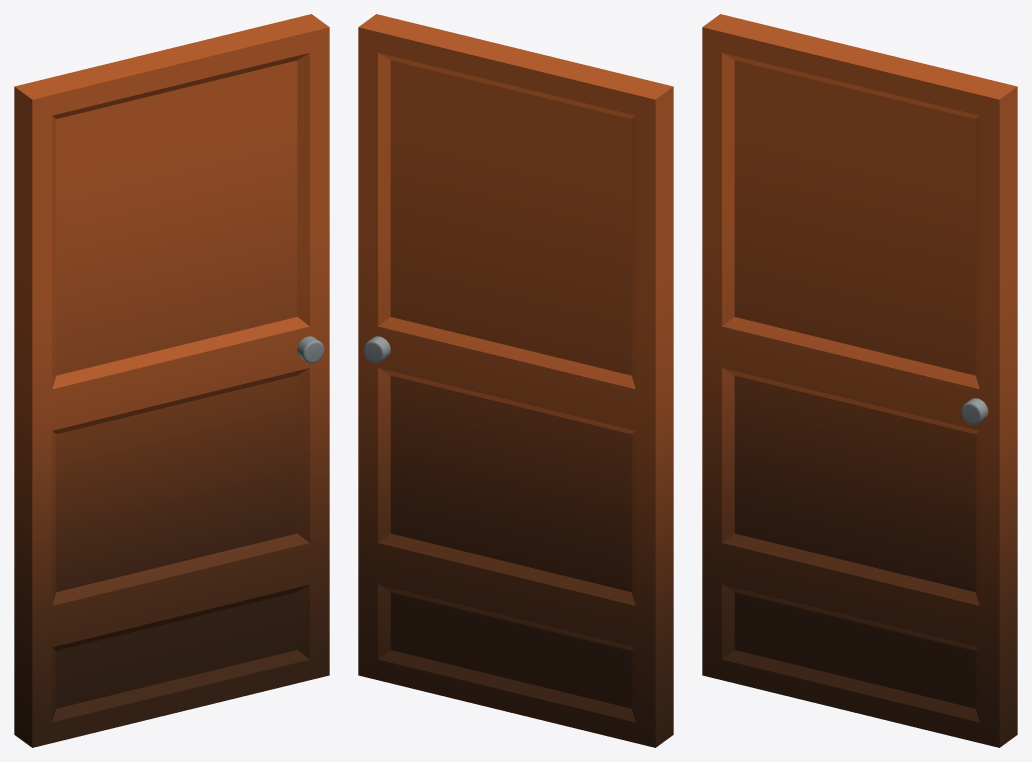
File: Door.gltf
3 renders of one model, left to right at view 1: azimuth 30°, elevation 25°; view 2: azimuth 150°, elevation 25°; view 3: azimuth 330°, elevation 25°, orthographic.
Visible parts, largest first — view 1: Door; view 2: Door; view 3: Door.
Boxes of the visible parts, x1=… form: Door: x1=14, y1=14, x2=329, y2=747; Door: x1=358, y1=14, x2=673, y2=747; Door: x1=702, y1=14, x2=1017, y2=747.
Bounding box in the file's own units: 0.9631 × 2.01 × 0.1769.
Materials: 1 (1 with a texture image).
